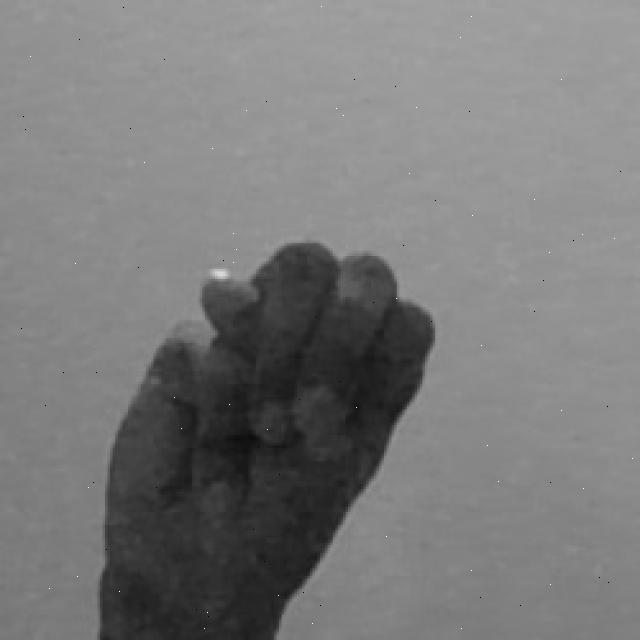M: (87, 233, 440, 640)
